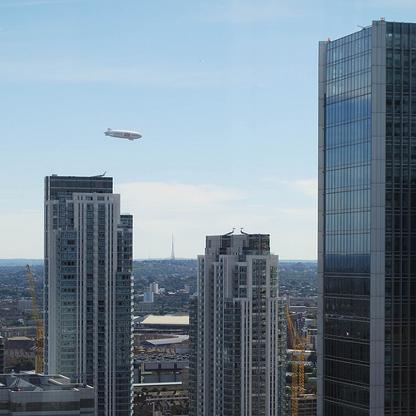Airship: (101, 124, 144, 147)
